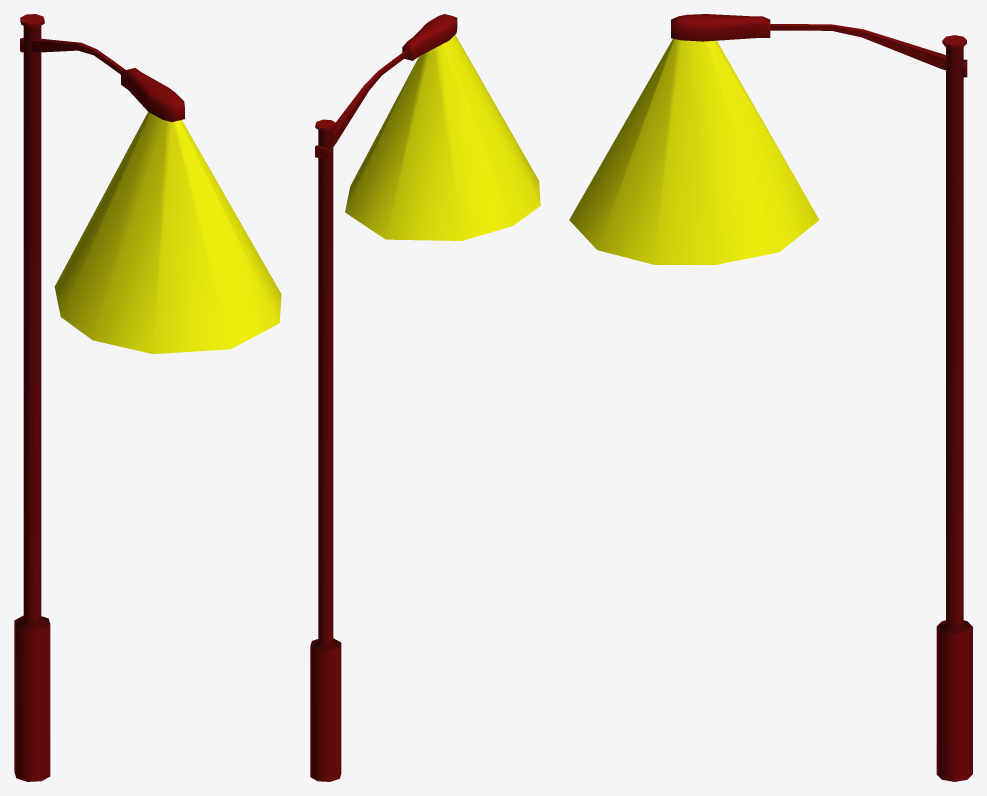
File: ModernStreetLight.glb
The picture shows the model from 3 angles, left to right: view 1: azimuth 30°, elevation 25°; view 2: azimuth 150°, elevation 25°; view 3: azimuth 270°, elevation 25°; orthographic projection. The views are drawn at different scales.
Parts seen in each view (by area): view 1: ModernStreetLight; view 2: ModernStreetLight; view 3: ModernStreetLight.
Boxes of the visible parts, bbox=[...] form: ModernStreetLight: bbox=[14, 14, 281, 781]; ModernStreetLight: bbox=[310, 14, 540, 781]; ModernStreetLight: bbox=[569, 14, 972, 781].
Bounding box in the file's own units: 15.73 × 61.94 × 29.97.
